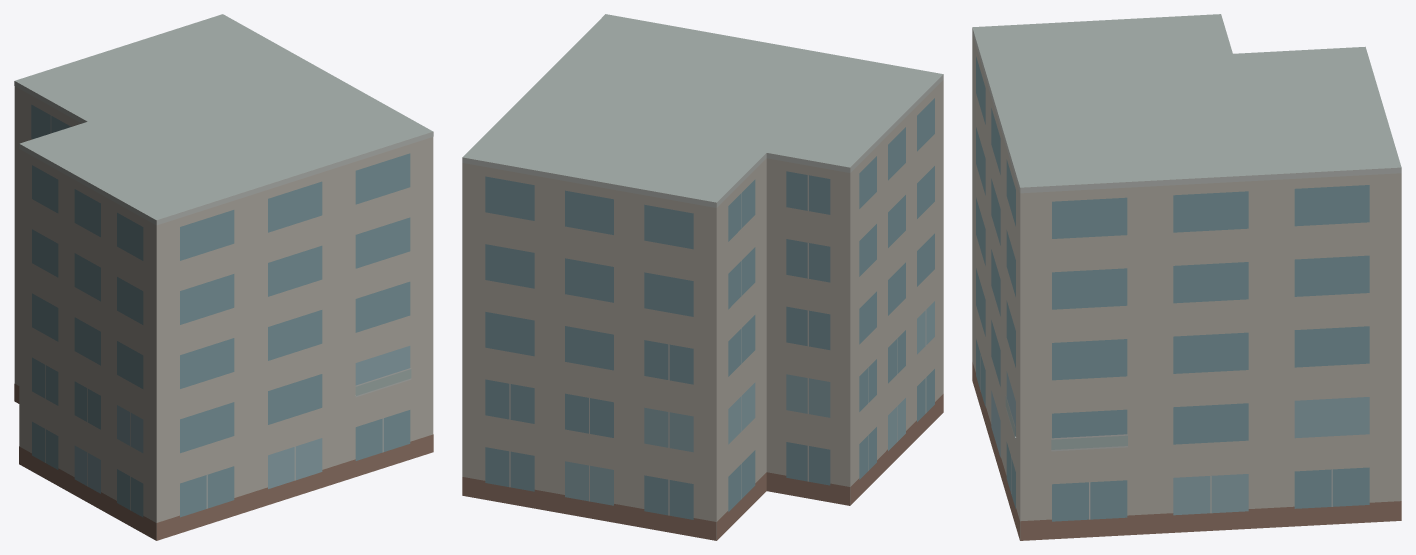
File: survey-upis-32962842.glb
The picture shows the model from 3 angles, left to right: view 1: azimuth 30°, elevation 25°; view 2: azimuth 150°, elevation 25°; view 3: azimuth 270°, elevation 25°; orthographic projection. The views are drawn at different scales.
Visible parts, largest first — view 1: survey-upis-32962842.tmp; view 2: survey-upis-32962842.tmp; view 3: survey-upis-32962842.tmp.
Part boxes in pixels (<box>): survey-upis-32962842.tmp: <box>14,14,433,540</box>; survey-upis-32962842.tmp: <box>462,14,943,540</box>; survey-upis-32962842.tmp: <box>972,14,1401,540</box>.
Size of the model in its own units: 16.04 by 15.2 by 16.75.
